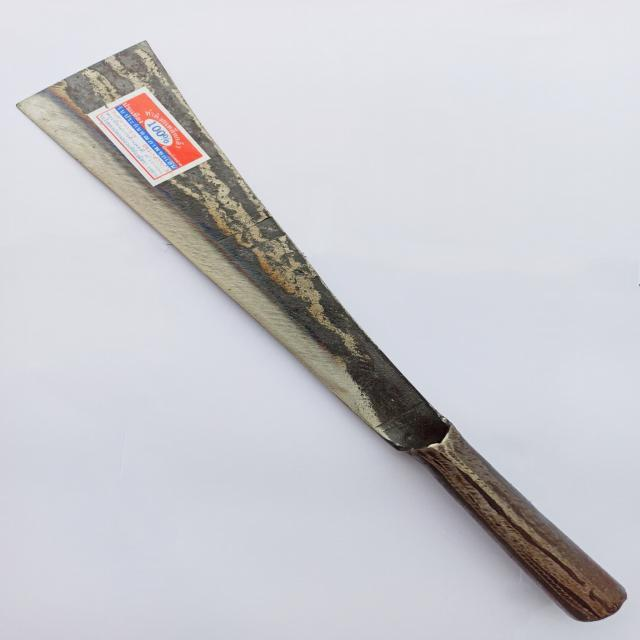eto: (11, 30, 633, 629)
